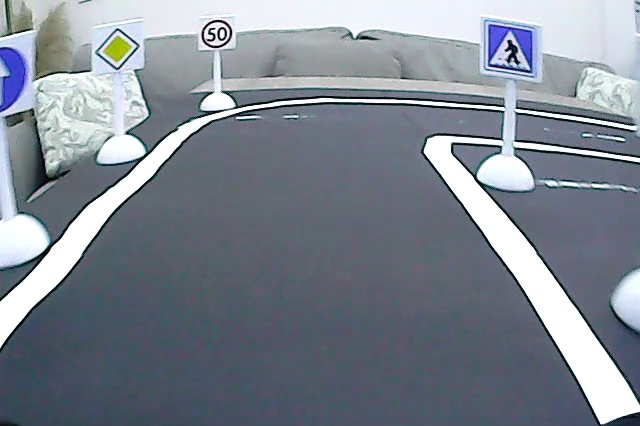pedestrian crossing: (483, 22, 538, 74)
speed limit 50: (199, 20, 232, 48)
